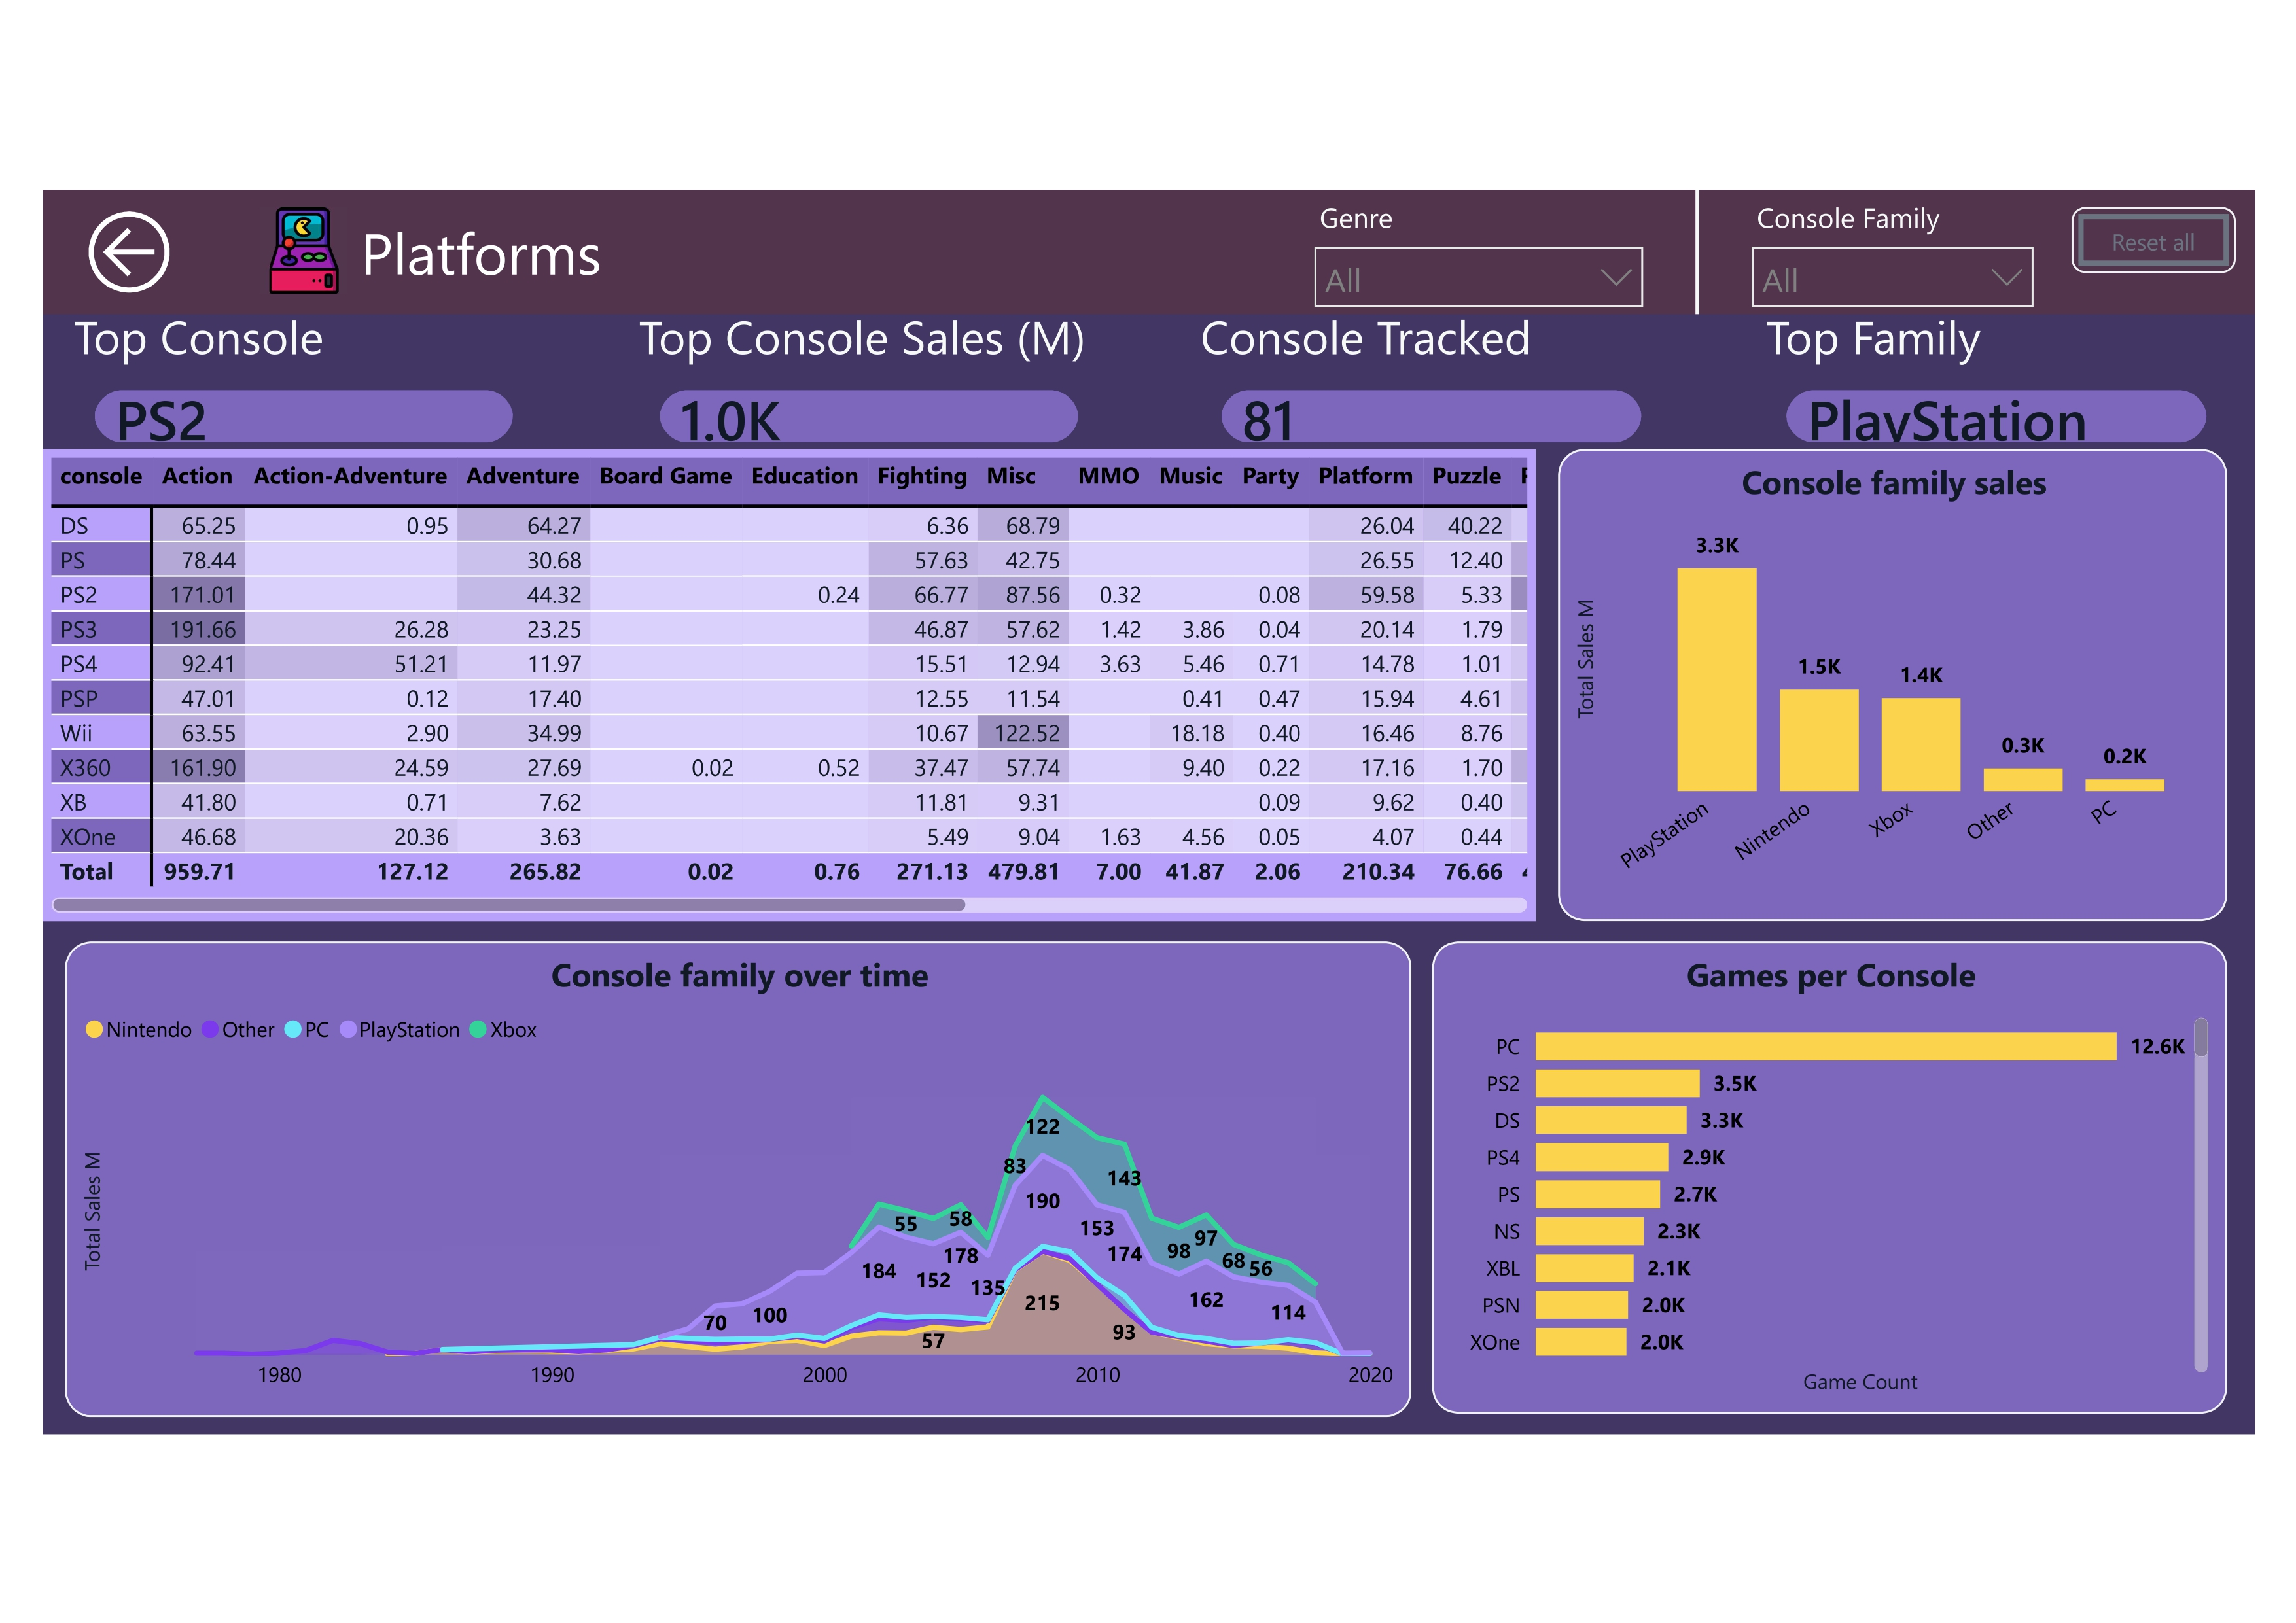

The page's visual inventory and layout, read from the dashboard file:
{"tool":"powerbi","page":{"name":"Platforms","canvas":[1280,720],"ordinal":4},"visuals":[{"type":"shape","box":[0,0,1280,72],"z":0},{"type":"shape","box":[184.3,10.1,226.1,50.4],"z":1},{"type":"image","box":[115,10.1,72,50.4],"z":2},{"type":"actionButton","box":[20.2,5.8,79.2,60.5],"z":3},{"type":"slicer","fields":{"Values":["Games.genre"]},"box":[725.8,0,210.2,72],"z":4},{"type":"slicer","fields":{"Values":["Games.Console Family"]},"box":[979.2,0,182.9,72],"z":5},{"type":"shape","box":[928.8,0,57.6,72],"z":6},{"type":"actionButton","title":"Reset","box":[1173.6,10.1,95,37.4],"z":7},{"type":"cardVisual","title":"Top Console","fields":{"Data":["_Measure.Top Console"]},"box":[13,66.2,276.5,96.5],"z":8},{"type":"cardVisual","title":"Top Console Sales (M)","fields":{"Data":["_Measure.Top Console Sales M"]},"box":[339.8,66.2,276.5,96.5],"z":9},{"type":"cardVisual","title":"Console Tracked","fields":{"Data":["_Measure.Console Count"]},"box":[665.3,66.2,276.5,96.5],"z":10},{"type":"cardVisual","title":"Top Family","fields":{"Data":["_Measure.Top Console Family"]},"box":[992.2,66.2,276.5,96.5],"z":11},{"type":"pivotTable","fields":{"Rows":["Games.console"],"Columns":["Games.genre"],"Values":["_Measure.Total Sales M"]},"box":[0,149.8,864,273.6],"z":12},{"type":"columnChart","title":"Console family sales","fields":{"Category":["Games.Console Family"],"Y":["_Measure.Total Sales M"]},"box":[877,149.8,387.4,273.6],"z":13},{"type":"stackedAreaChart","title":"Console family over time","fields":{"Category":["Games.Release Year"],"Series":["Games.Console Family"],"Y":["_Measure.Total Sales M"]},"box":[13,434.9,779,275],"z":14},{"type":"barChart","title":"Games per Console","fields":{"Category":["Games.console"],"Y":["_Measure.Game Count"]},"box":[803.5,434.9,460.8,273.6],"z":15}]}

Visuals, with their boxes on the page's 1280x720 design canvas (x1, y1, x2, y2). These are canvas units, not pixel positions in the 2296x1623 screenshot, which may show the page scaled, cropped or inside an application window:
shape: [0,0,1280,72]
shape: [184,10,410,60]
image: [115,10,187,60]
actionButton: [20,6,99,66]
slicer - Games.genre: [726,0,936,72]
slicer - Games.Console Family: [979,0,1162,72]
shape: [929,0,986,72]
"Reset" actionButton: [1174,10,1269,48]
"Top Console" cardVisual: [13,66,290,163]
"Top Console Sales (M)" cardVisual: [340,66,616,163]
"Console Tracked" cardVisual: [665,66,942,163]
"Top Family" cardVisual: [992,66,1269,163]
pivotTable - Games.console x Games.genre: [0,150,864,423]
"Console family sales" columnChart: [877,150,1264,423]
"Console family over time" stackedAreaChart: [13,435,792,710]
"Games per Console" barChart: [804,435,1264,708]
